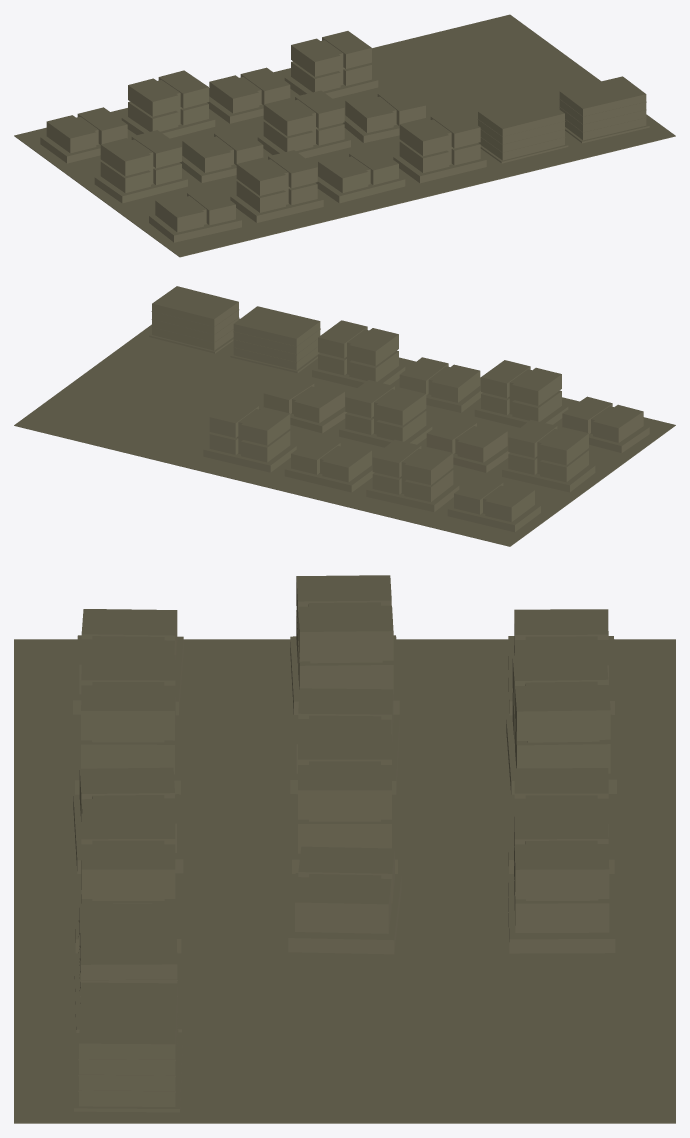
The model's file is SM_AcopioMunicion_v4_Quemado_LOD0.fbx.
3 views of the same model, one above another, from view 1: azimuth 30°, elevation 25°; view 2: azimuth 150°, elevation 25°; view 3: azimuth 270°, elevation 25° (orthographic). The views are drawn at different scales.
Parts seen in each view (by area): view 1: SM_acopio_carga_v4_LOD0; view 2: SM_acopio_carga_v4_LOD0; view 3: SM_acopio_carga_v4_LOD0.
Boxes of the visible parts, x1,y1,x2,y2 form: SM_acopio_carga_v4_LOD0: (14,14,675,257); SM_acopio_carga_v4_LOD0: (14,286,675,546); SM_acopio_carga_v4_LOD0: (14,575,675,1123).
Size of the model in its own units: 9.5 by 0.735 by 5.5.
